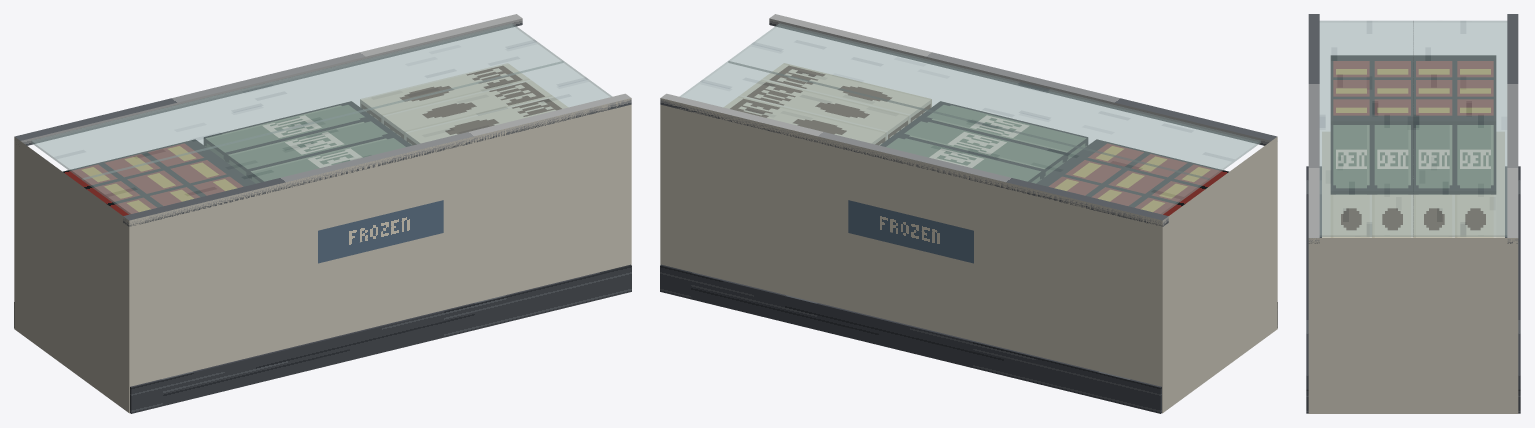
Rendered from COM_Freezer_Chest.glb.
3 views of the same model, side by side, from view 1: azimuth 30°, elevation 25°; view 2: azimuth 150°, elevation 25°; view 3: azimuth 270°, elevation 25° (orthographic). The views are drawn at different scales.
Visible parts, largest first — view 1: COM_Freezer_Chest_Mesh; view 2: COM_Freezer_Chest_Mesh; view 3: COM_Freezer_Chest_Mesh.
Part boxes in pixels (left/top/right/bottom): COM_Freezer_Chest_Mesh: left=14, top=14, right=631, bottom=413; COM_Freezer_Chest_Mesh: left=660, top=14, right=1277, bottom=413; COM_Freezer_Chest_Mesh: left=1306, top=14, right=1520, bottom=413.
Size of what is drawn, in the model's own units: 2.4 by 0.88 by 0.97.
Materials: 2 (2 with a texture image).
